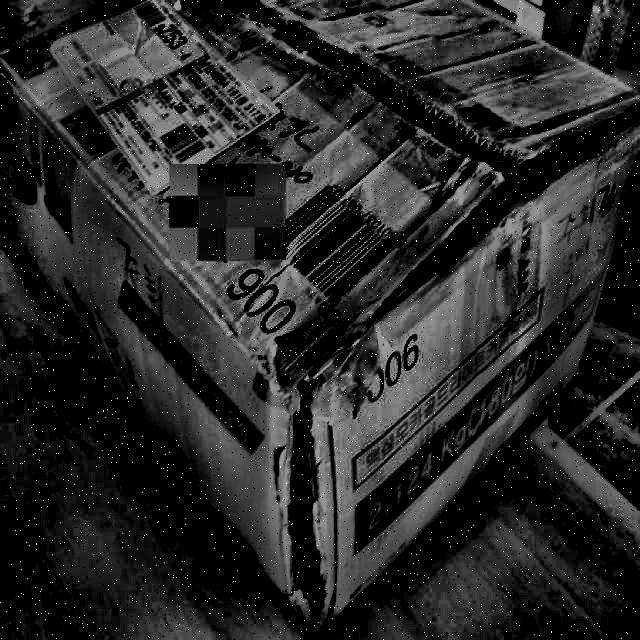box: (0, 0, 639, 637)
hole: (269, 374, 341, 630)
